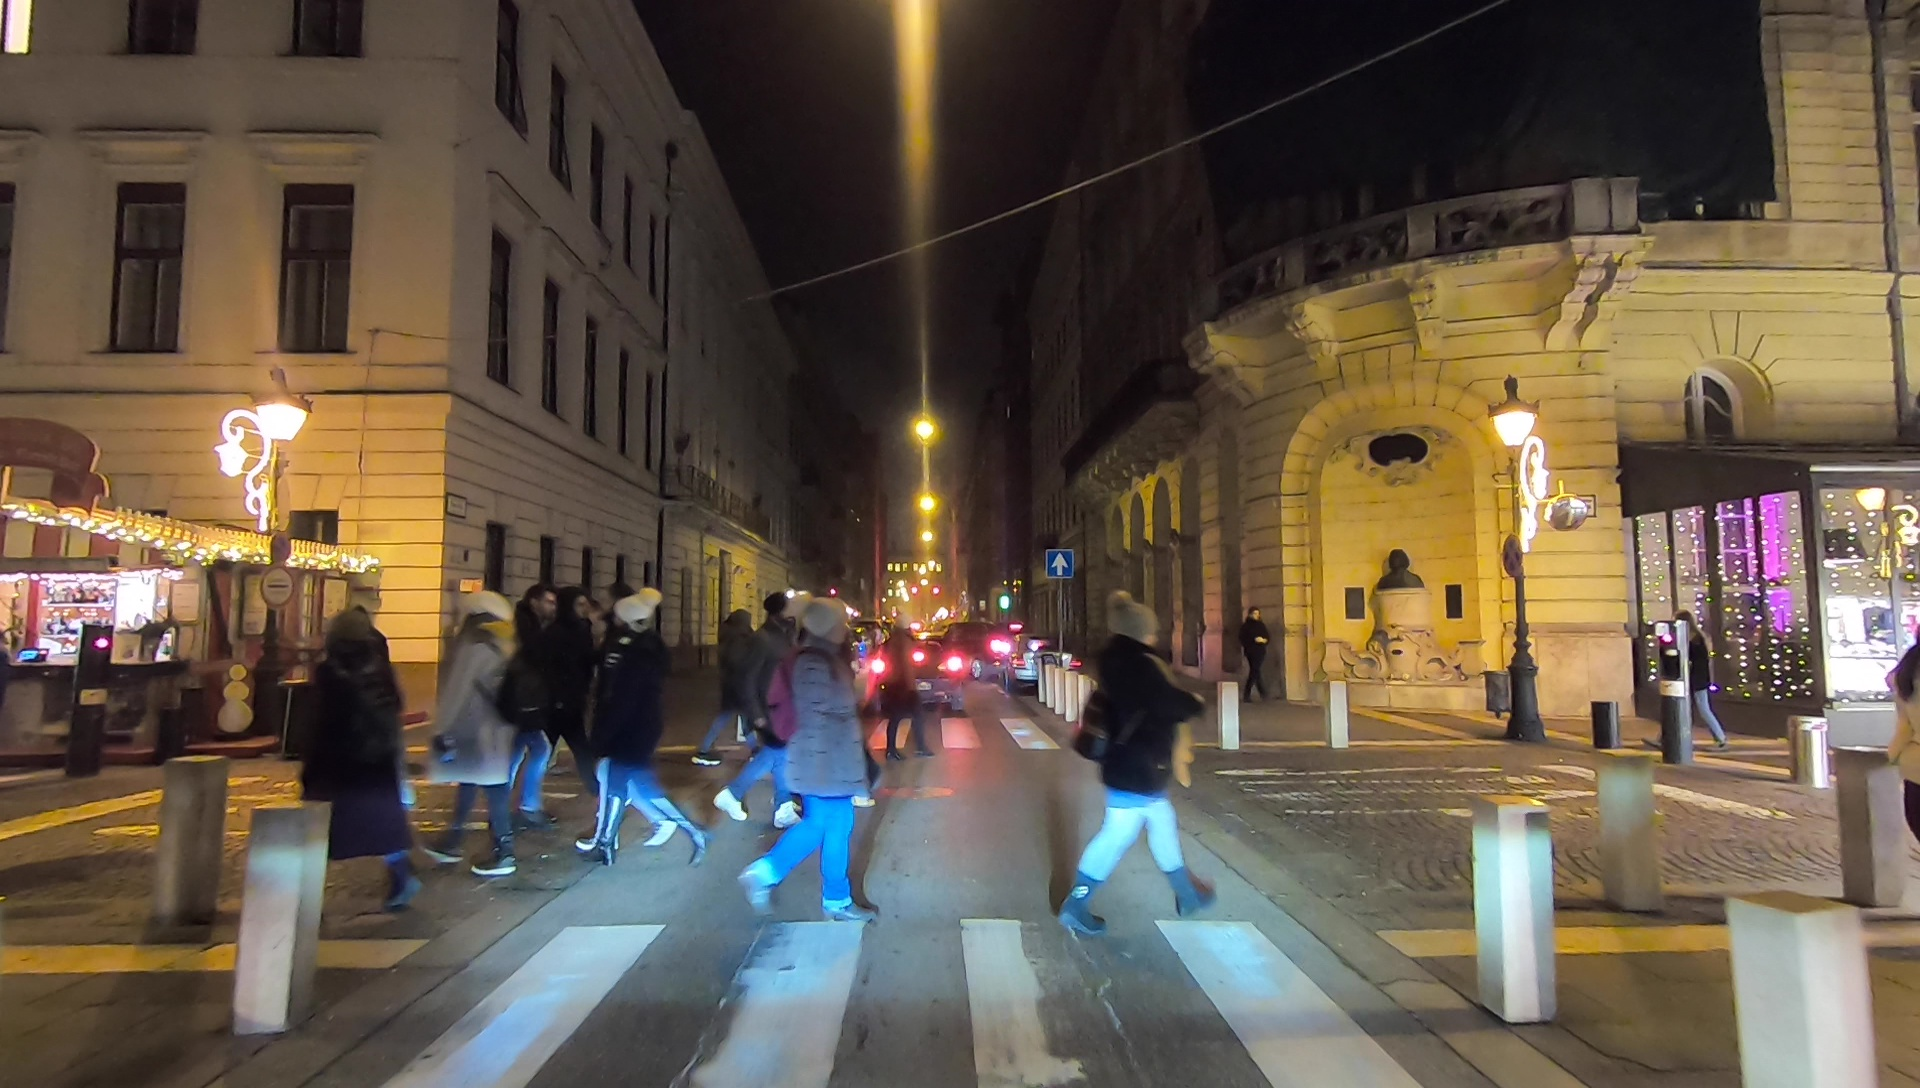person: (1060, 600, 1215, 945), (288, 602, 425, 921), (769, 608, 876, 932), (425, 593, 528, 891), (599, 610, 710, 878), (545, 574, 615, 824), (693, 602, 773, 780), (506, 586, 556, 836), (1660, 610, 1734, 773), (878, 621, 936, 774), (1234, 602, 1273, 706)
